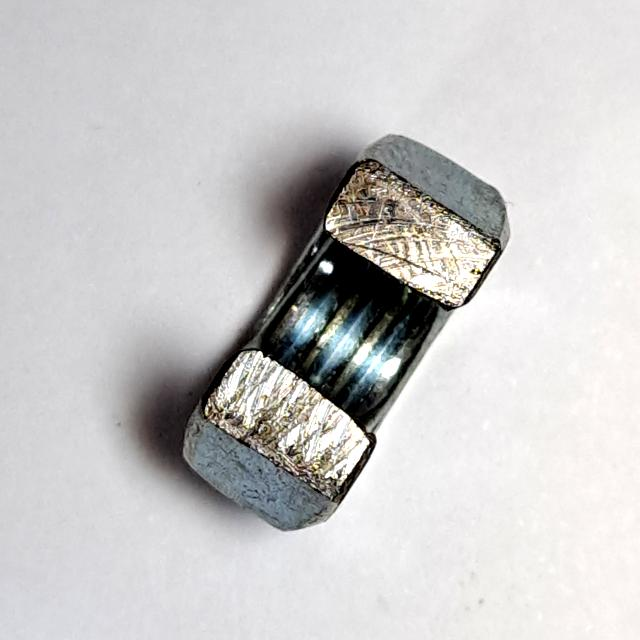Side-Fracture: (168, 121, 519, 547)
